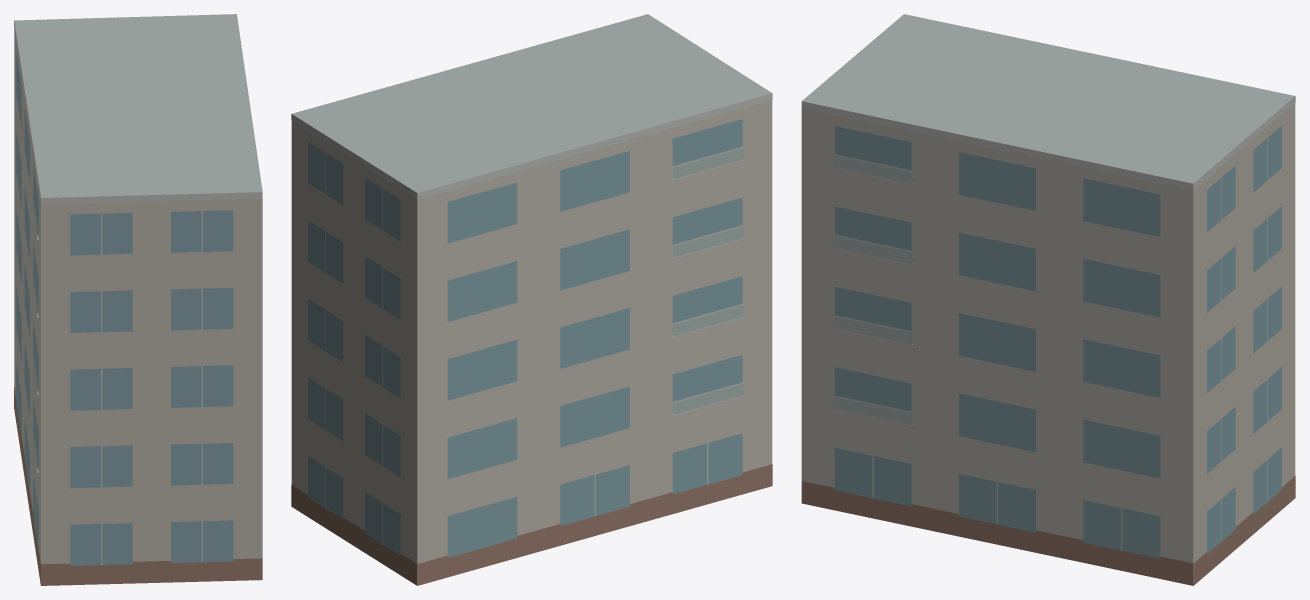
The model's file is survey-upis-32884393.glb.
The picture shows the model from 3 angles, left to right: view 1: azimuth 30°, elevation 25°; view 2: azimuth 150°, elevation 25°; view 3: azimuth 270°, elevation 25°; orthographic projection. The views are drawn at different scales.
Visible parts, largest first — view 1: survey-upis-32884393.tmp; view 2: survey-upis-32884393.tmp; view 3: survey-upis-32884393.tmp.
Boxes of the visible parts, <box> form: survey-upis-32884393.tmp: <box>14,14,262,585</box>; survey-upis-32884393.tmp: <box>291,14,772,585</box>; survey-upis-32884393.tmp: <box>801,14,1295,585</box>.
Size of the model in its own units: 13.31 by 14.7 by 16.37.
